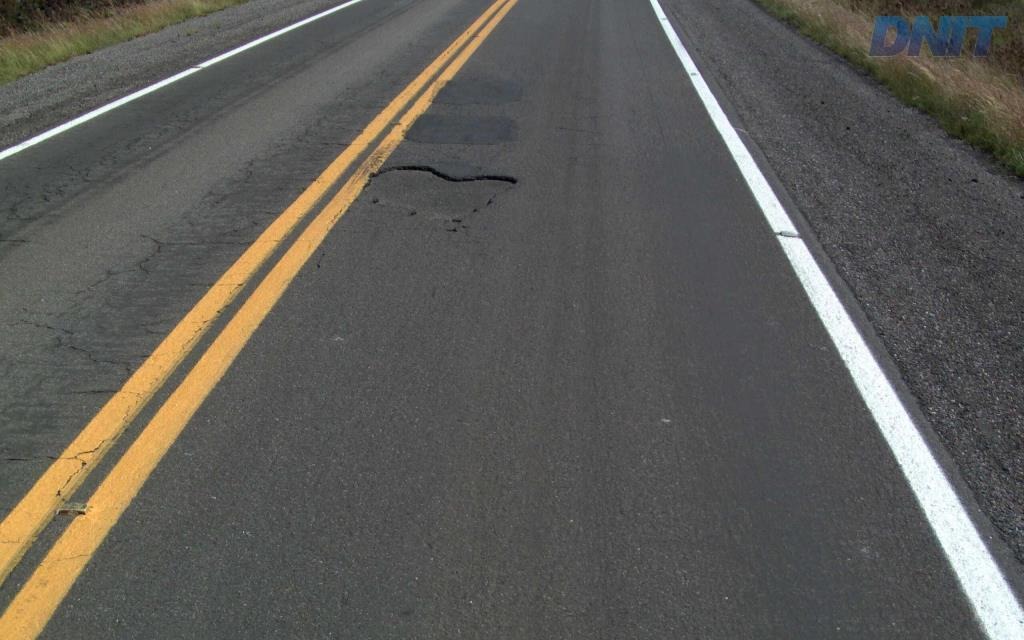pothole: (362, 159, 517, 224)
